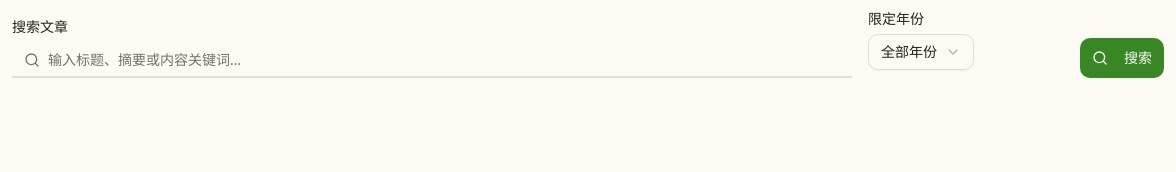
it: ArchiveSearch › 当请求失败时显示错误提示
Type "Broken" into the field labelled "搜索文章" at (432, 60), box [12,42,852,78]
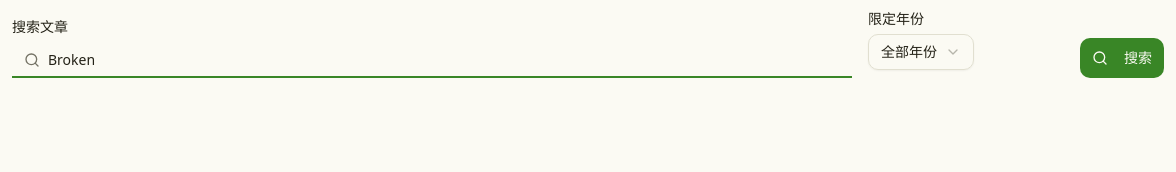
Click the button with aria-label "执行归档搜索" at (1122, 58), box [1080,38,1164,78]
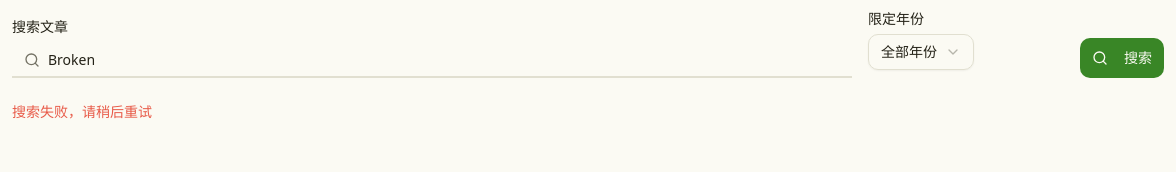
Result: the text "搜索失败，请稍后重试" is shown at [12,102,152,121]
